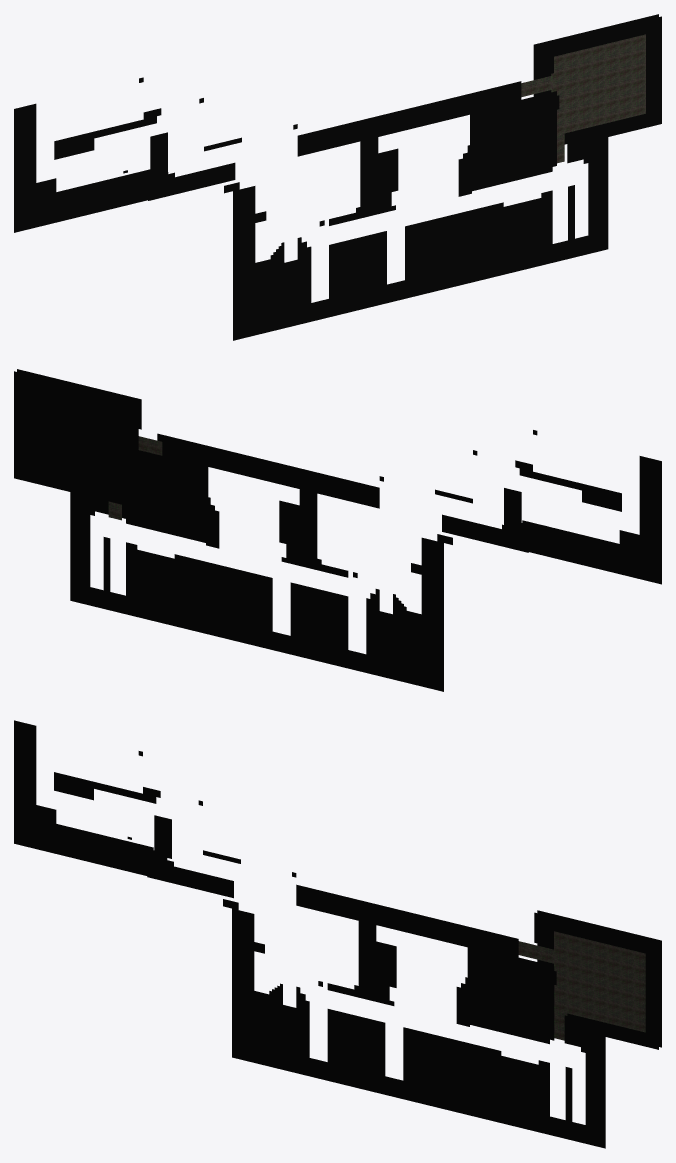
Rendered from level-filler02.FBX.
3 renders of one model, top to bottom at view 1: azimuth 30°, elevation 25°; view 2: azimuth 150°, elevation 25°; view 3: azimuth 330°, elevation 25°, orthographic.
Parts seen in each view (by area): view 1: Plane360, Plane417, Plane382, Plane381, Plane366, Plane399, Plane397, Plane394, Plane398, Plane364, Plane392, Plane400 (+15 smaller); view 2: Plane419, Plane417, Plane382, Plane381, Plane366, Plane399, Plane397, Plane394, Plane398, Plane392, Plane364, Plane400 (+8 smaller); view 3: Plane360, Plane417, Plane382, Plane381, Plane366, Plane399, Plane397, Plane394, Plane398, Plane364, Plane392, Plane400 (+10 smaller).
Part boxes in pixels (left/top/right/bottom): Plane360: left=551, top=34, right=645, bottom=135; Plane417: left=405, top=216, right=552, bottom=298; Plane382: left=470, top=91, right=556, bottom=186; Plane381: left=297, top=81, right=521, bottom=156; Plane366: left=14, top=170, right=147, bottom=232; Plane399: left=233, top=256, right=311, bottom=321; Plane397: left=233, top=280, right=404, bottom=340; Plane394: left=405, top=195, right=552, bottom=252; Plane398: left=329, top=231, right=386, bottom=298; Plane364: left=14, top=103, right=36, bottom=211; Plane392: left=588, top=137, right=608, bottom=253; Plane400: left=233, top=186, right=255, bottom=275; Plane419: left=14, top=371, right=138, bottom=508; Plane417: left=126, top=568, right=272, bottom=649; Plane382: left=122, top=450, right=208, bottom=538; Plane381: left=157, top=433, right=379, bottom=508; Plane366: left=528, top=522, right=661, bottom=584; Plane399: left=366, top=608, right=443, bottom=673; Plane397: left=272, top=631, right=443, bottom=691; Plane394: left=126, top=547, right=272, bottom=603; Plane398: left=290, top=582, right=348, bottom=649; Plane392: left=70, top=492, right=90, bottom=605; Plane364: left=639, top=456, right=661, bottom=554; Plane400: left=421, top=537, right=443, bottom=626; Plane360: left=554, top=931, right=645, bottom=1032; Plane417: left=403, top=1053, right=549, bottom=1134; Plane382: left=467, top=947, right=554, bottom=1040; Plane381: left=296, top=884, right=518, bottom=959; Plane366: left=14, top=823, right=147, bottom=875; Plane399: left=232, top=992, right=309, bottom=1057; Plane397: left=232, top=1039, right=403, bottom=1098; Plane394: left=403, top=1032, right=549, bottom=1088; Plane398: left=327, top=1009, right=385, bottom=1075; Plane364: left=14, top=720, right=36, bottom=827; Plane392: left=585, top=1032, right=605, bottom=1148; Plane400: left=232, top=908, right=254, bottom=997.
Bounding box in the file's own units: 14500 × 6100 × 120.
Materials: 2 (2 with a texture image).
